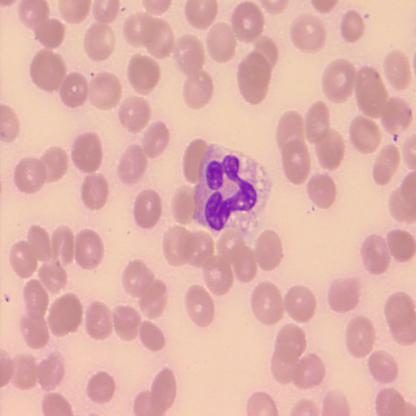Segmented neutrophil: (193, 142, 272, 242)
